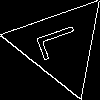L: (35, 20, 91, 62)
